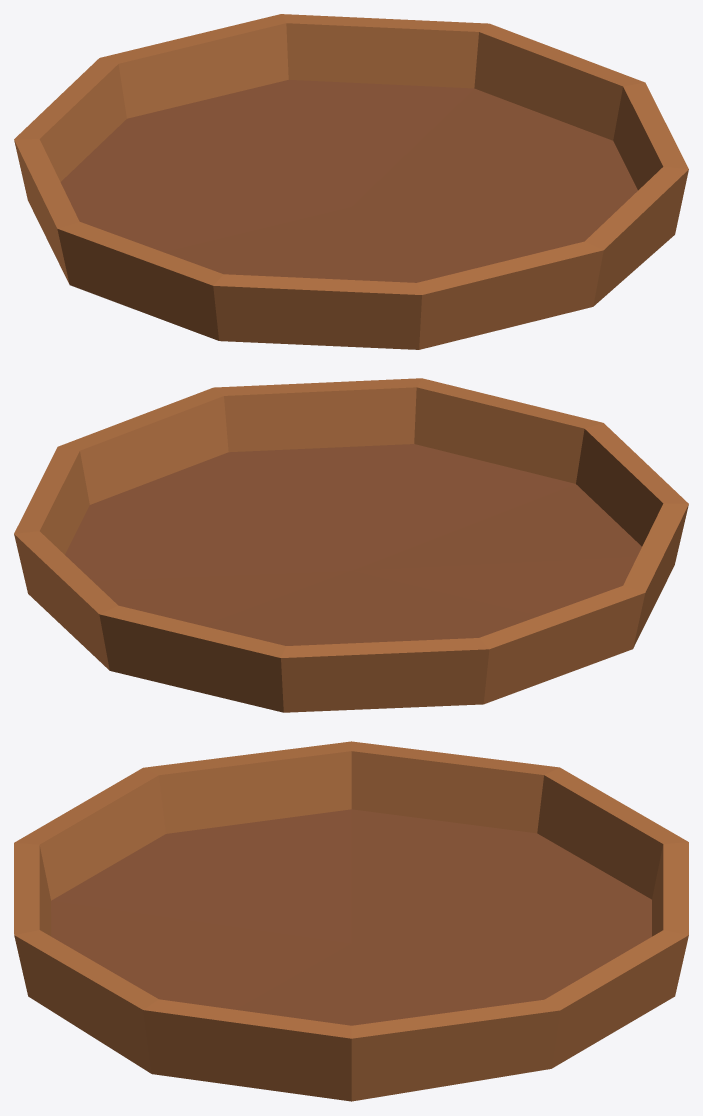
File: SM_Prop_Copper_Plate_Large_02.fbx
The picture shows the model from 3 angles, top to bottom: view 1: azimuth 30°, elevation 25°; view 2: azimuth 150°, elevation 25°; view 3: azimuth 270°, elevation 25°; orthographic projection. The views are drawn at different scales.
Parts seen in each view (by area): view 1: SM_Prop_Copper_Plate_Large_02; view 2: SM_Prop_Copper_Plate_Large_02; view 3: SM_Prop_Copper_Plate_Large_02.
Boxes of the visible parts, x1,y1,x2,y2 form: SM_Prop_Copper_Plate_Large_02: [14, 14, 688, 349]; SM_Prop_Copper_Plate_Large_02: [14, 378, 688, 712]; SM_Prop_Copper_Plate_Large_02: [14, 741, 688, 1101].
Bounding box in the file's own units: 160 × 20.47 × 152.
